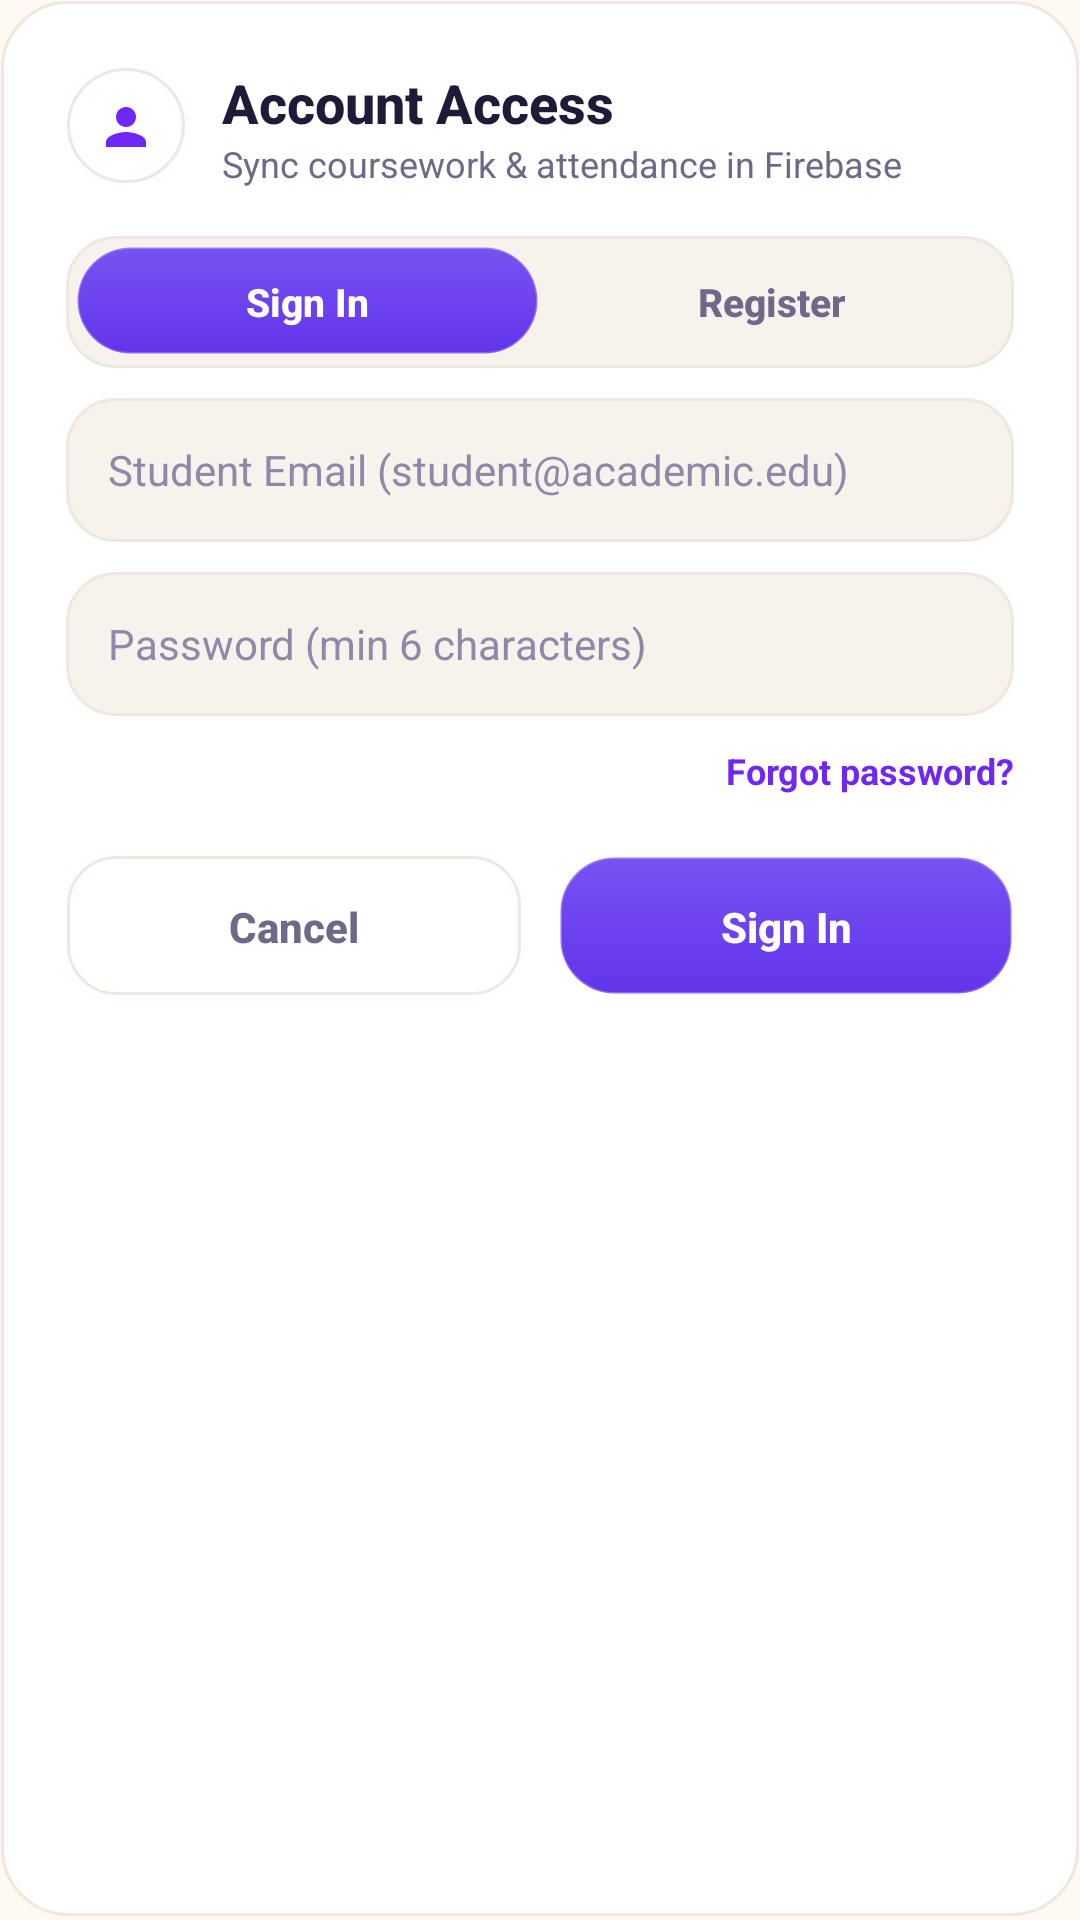

Icon bounding boxes for this 1080*1920 phone screenshot, format (x1, y1, x2, y2):
profile: (106, 107, 146, 147)
